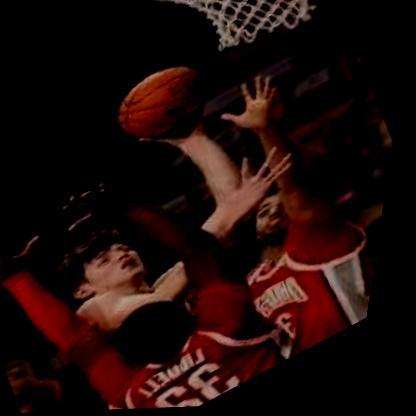basketball: (100, 47, 232, 160)
